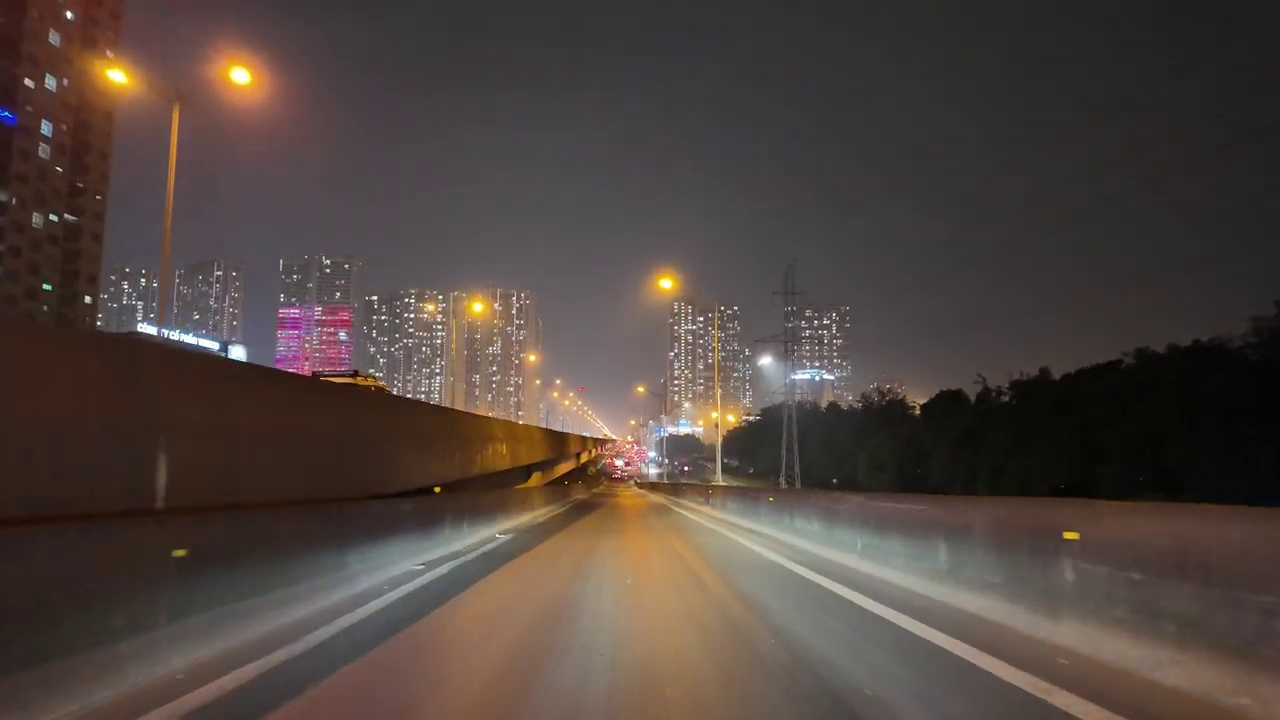acesa: (94, 59, 138, 96), (219, 58, 261, 95), (649, 268, 683, 301), (463, 294, 493, 322), (521, 347, 542, 370)
